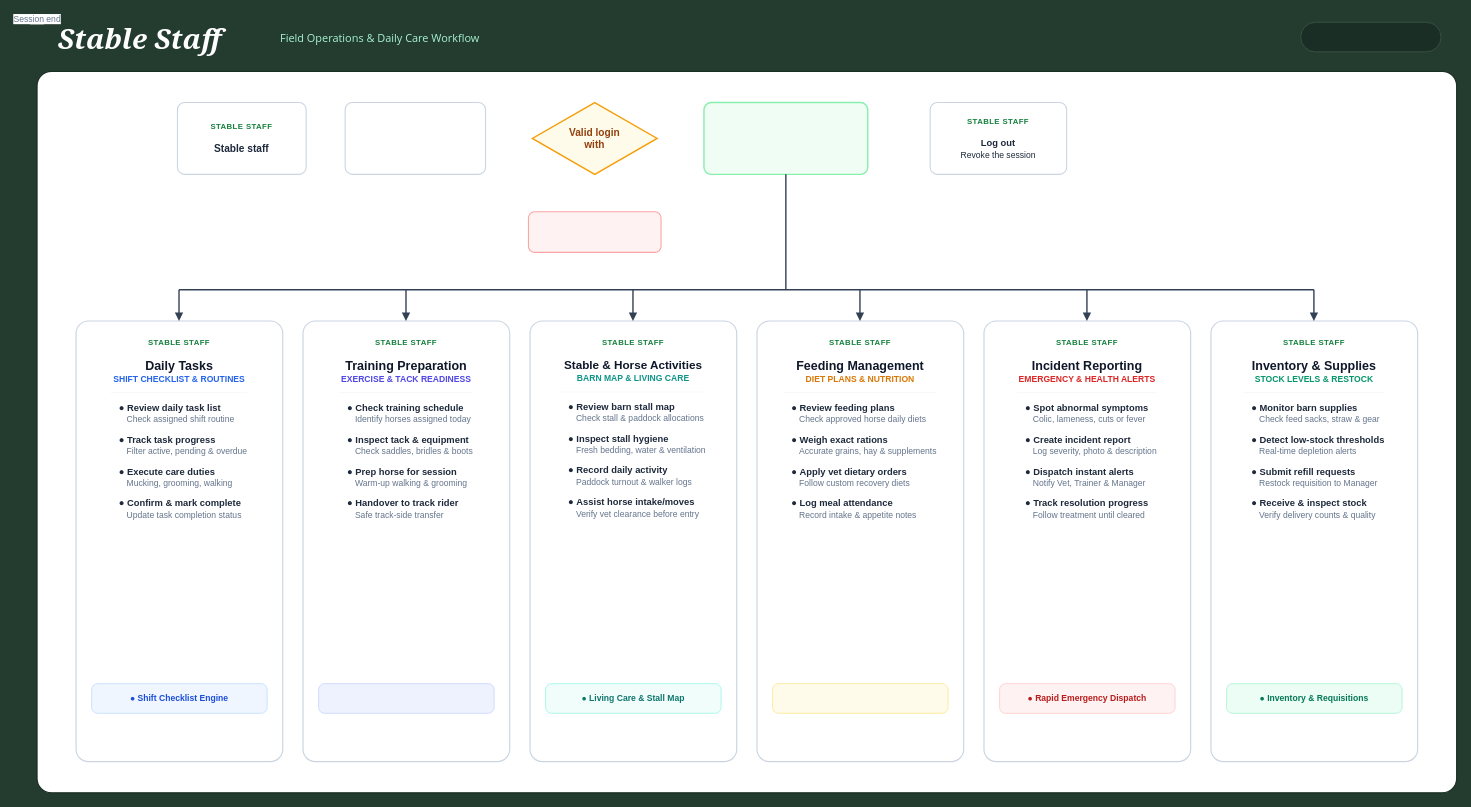
Image size: 1471x807. Some labels were removed from this diagram. The box of each missing label's shape, as (x1, y1, x2, y2) in pixels:
Access denied Check login details: (528, 211, 661, 252)
STABLE STAFF Enter username and password: (344, 102, 486, 174)
STABLE STAFF Open the staff dashboard: (703, 101, 868, 175)
● Nutrition & Meal Tracker: (772, 683, 948, 713)
● Role: STABLE_STAFF: (1300, 21, 1441, 52)
● Track Handover Protocol: (318, 683, 494, 713)
